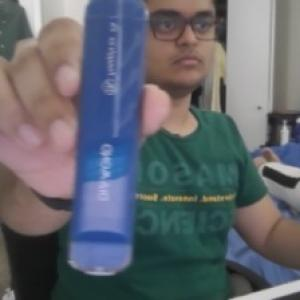Diamond-E-Ciggirate: (65, 1, 146, 277)
